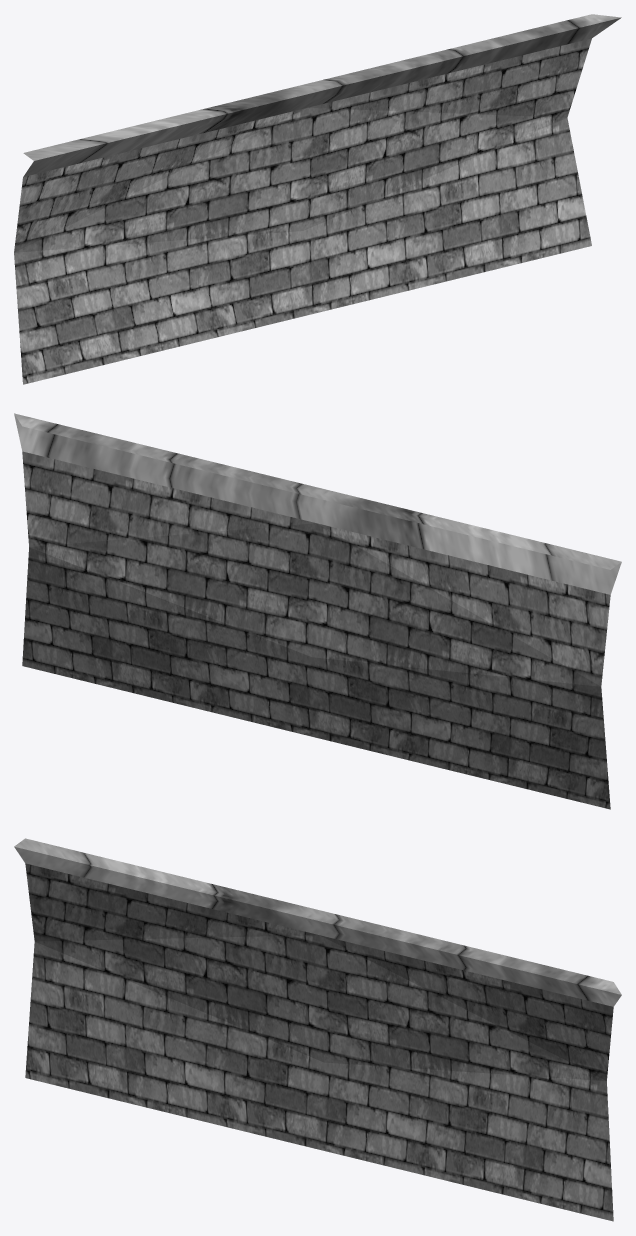
The model's file is W_A2r_xxxx [GraueZiegel]_872.glb.
3 views of the same model, one above another, from view 1: azimuth 30°, elevation 25°; view 2: azimuth 150°, elevation 25°; view 3: azimuth 330°, elevation 25° (orthographic). The views are drawn at different scales.
Parts seen in each view (by area): view 1: polySurfaceShape787, polySurfaceShape1065; view 2: polySurfaceShape787, polySurfaceShape1065; view 3: polySurfaceShape787, polySurfaceShape1065.
Part boxes in pixels (x1=…): polySurfaceShape787: x1=14, y1=38, x2=591, y2=384; polySurfaceShape1065: x1=23, y1=14, x2=621, y2=176; polySurfaceShape787: x1=22, y1=451, x2=610, y2=809; polySurfaceShape1065: x1=14, y1=413, x2=621, y2=594; polySurfaceShape787: x1=25, y1=863, x2=613, y2=1221; polySurfaceShape1065: x1=14, y1=838, x2=621, y2=1006.
Size of the model in its own units: 1.03 by 0.3891 by 0.0607.
Materials: 2 (2 with a texture image).
